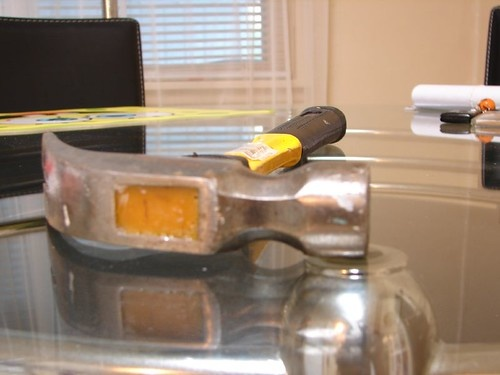hammer: (34, 101, 373, 263)
